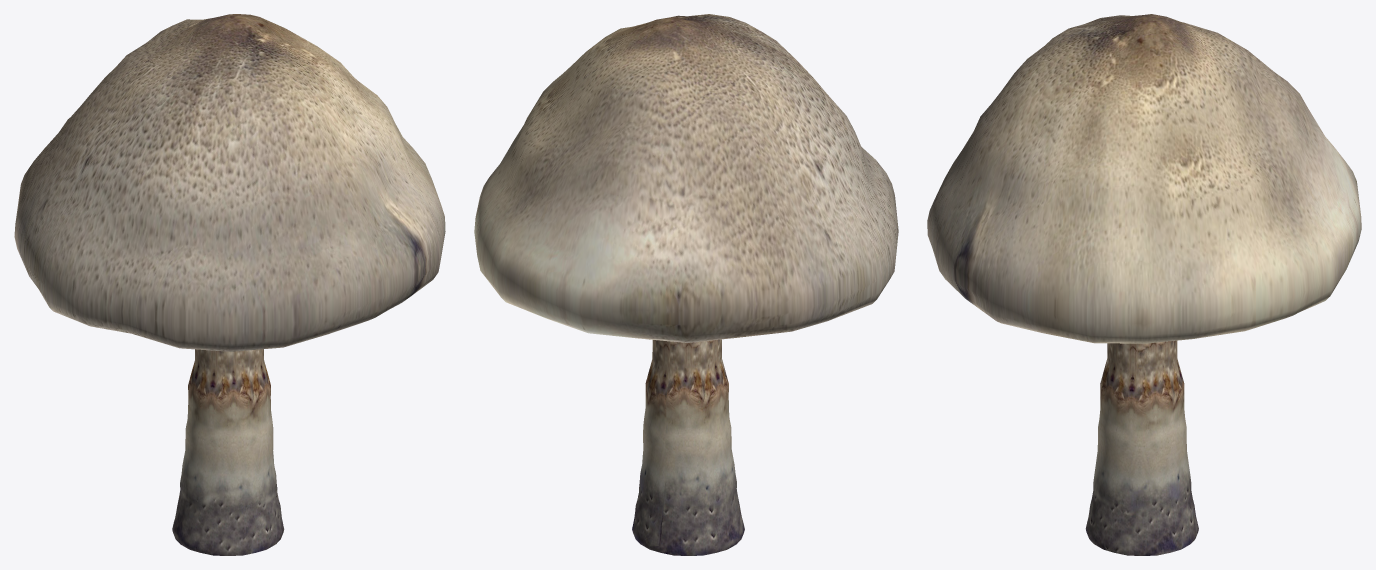
Rendered from mapsMorph3.FBX.
3 renders of one model, left to right at view 1: azimuth 30°, elevation 25°; view 2: azimuth 150°, elevation 25°; view 3: azimuth 270°, elevation 25°, orthographic.
Parts seen in each view (by area): view 1: Mushroom01a_1; view 2: Mushroom01a_1; view 3: Mushroom01a_1.
Part boxes in pixels (box(x1,y1,x2,y2)): Mushroom01a_1: box(14, 14, 445, 555); Mushroom01a_1: box(474, 14, 898, 555); Mushroom01a_1: box(927, 14, 1361, 555).
Size of the model in its own units: 140 by 183 by 139.
Materials: 3 (3 with a texture image).
